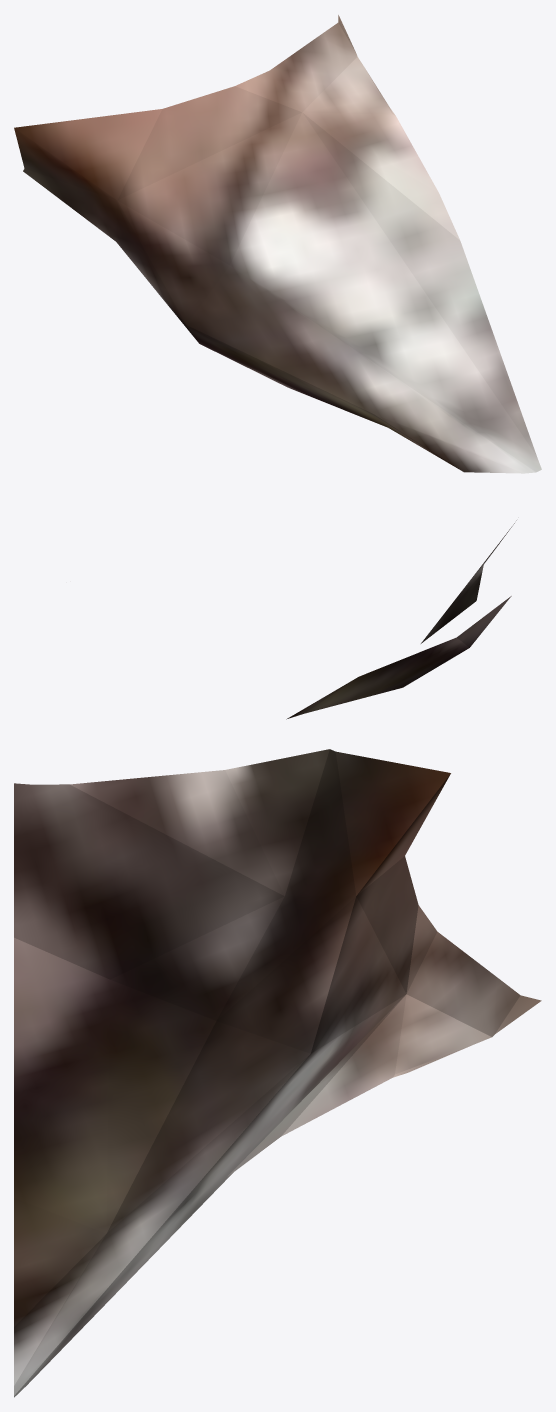
3 views of the same model, one above another, from view 1: azimuth 30°, elevation 25°; view 2: azimuth 150°, elevation 25°; view 3: azimuth 270°, elevation 25° (orthographic). The views are drawn at different scales.
Bounding box in the file's own units: 0.1159 × 0.0857 × 0.1028.
Materials: 1 (1 with a texture image).
